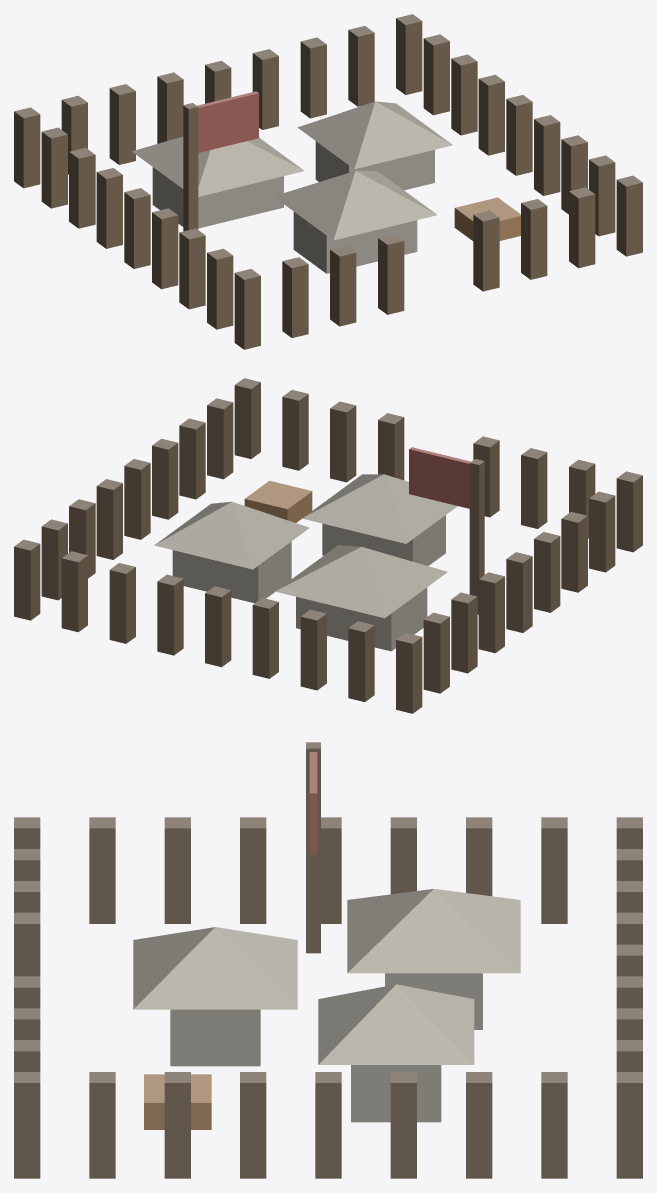
The model's file is garrison.gltf.
The picture shows the model from 3 angles, top to bottom: view 1: azimuth 30°, elevation 25°; view 2: azimuth 150°, elevation 25°; view 3: azimuth 270°, elevation 25°; orthographic projection. The views are drawn at different scales.
Visible parts, largest first — view 1: building-garrison; view 2: building-garrison; view 3: building-garrison.
Part boxes in pixels (x1,y1,x2,y2): building-garrison: (14,14,642,349); building-garrison: (14,378,642,713); building-garrison: (14,742,642,1178).
Size of the model in its own units: 0.835 by 0.3 by 0.835.
